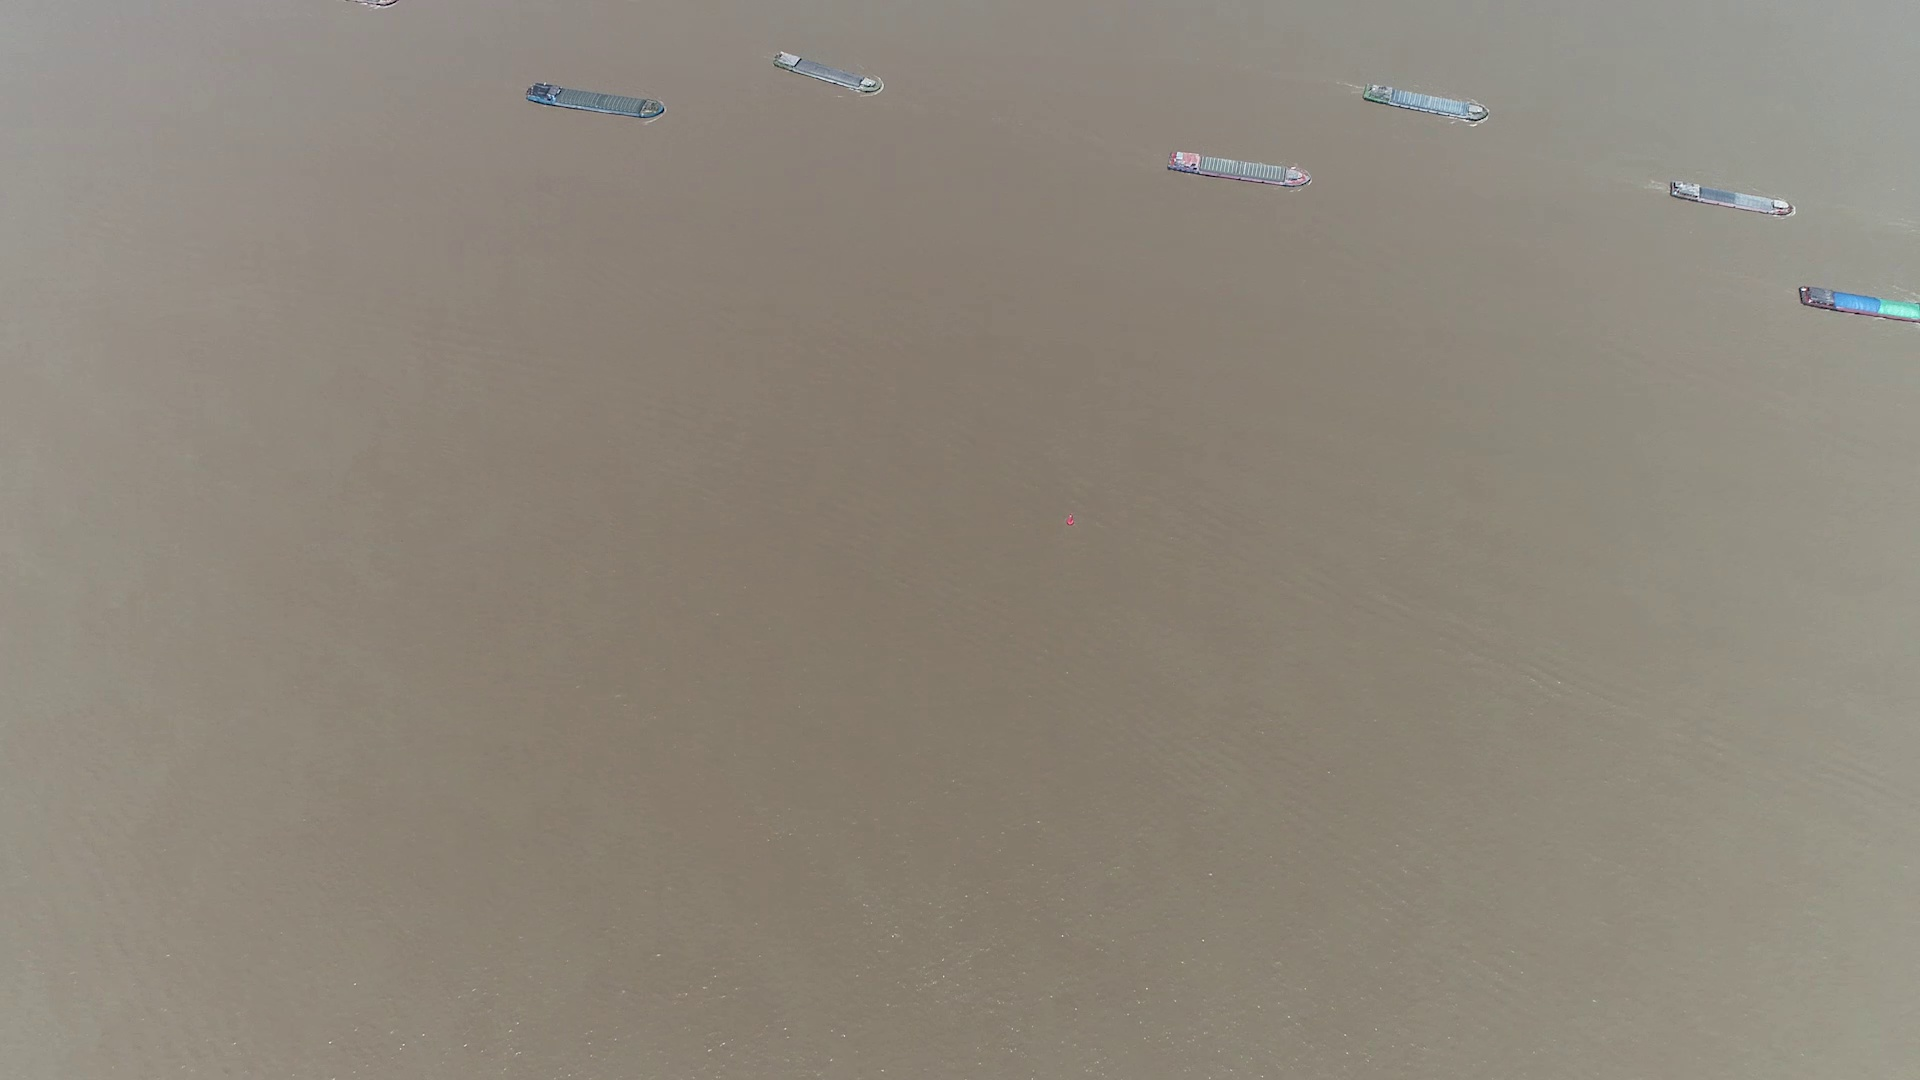ship: (1166, 150, 1312, 189), (525, 82, 665, 120), (1364, 82, 1490, 124), (773, 50, 885, 96), (1800, 285, 1920, 324), (1669, 179, 1792, 214)
